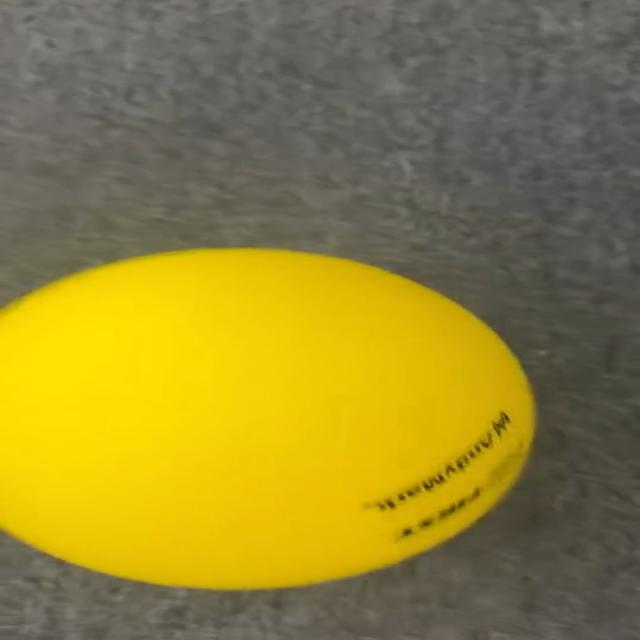Fuels: (4, 248, 534, 588)
